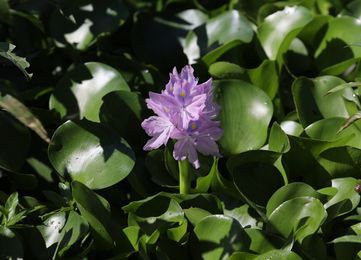water_hyacinth: (47, 62, 361, 260)
